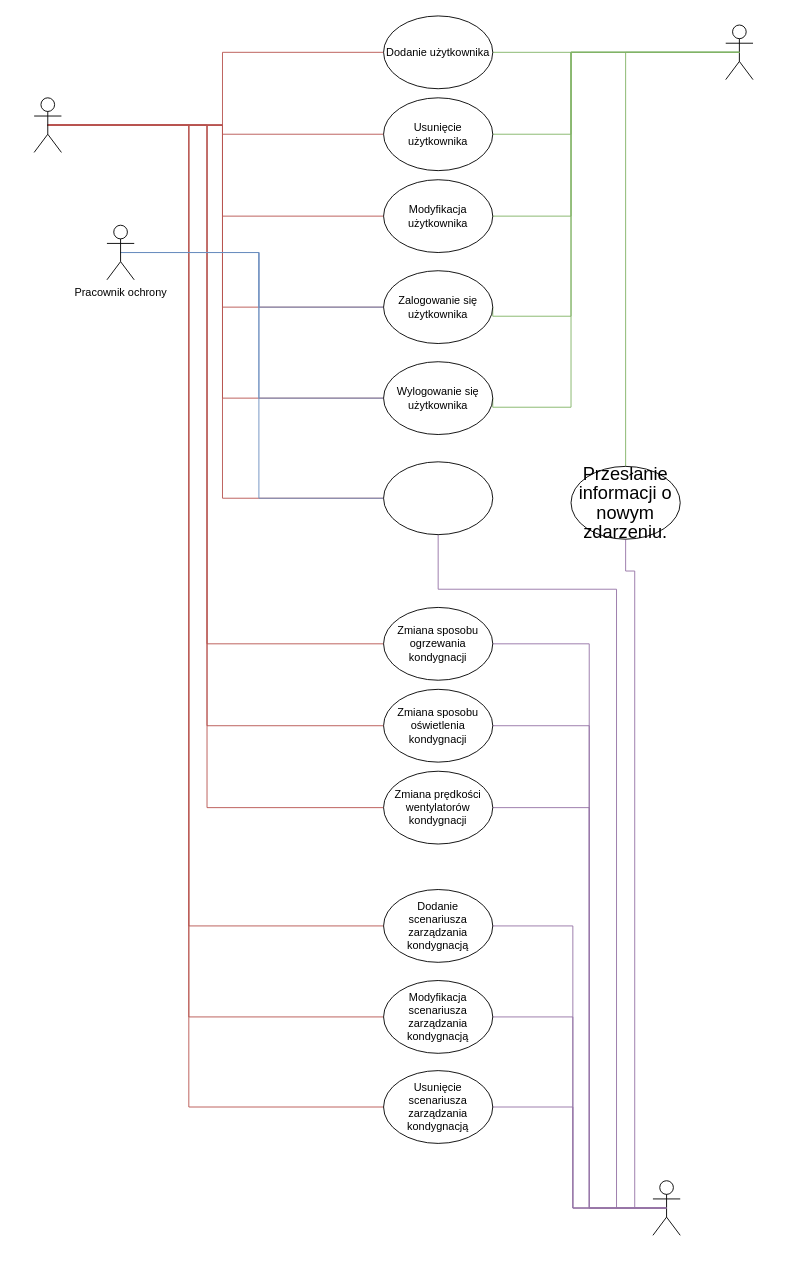
The diagram is 803 pixels wide and 1270 high, and some of its shapes have lost their labels. The shapes that lost their labels are listed below. From the top down, each one's centre as x and y in pixels, then its label:
point (739, 52): Baza użytkowników
point (47, 124): Administrator
point (438, 498): Zmiana temperatury kondygnacji
point (666, 1207): System zarządzania budynkiem
